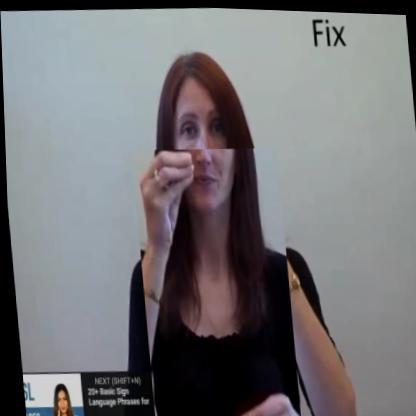Fix: (130, 141, 298, 416)
